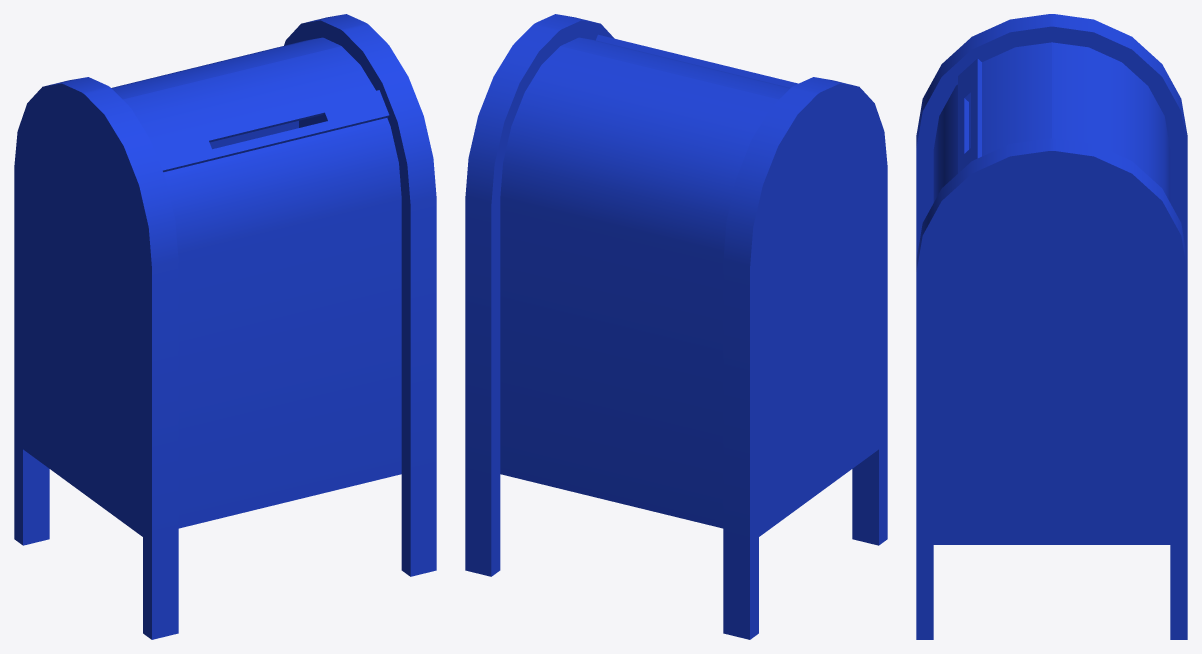
The model's file is Mailbox2.glb.
The picture shows the model from 3 angles, left to right: view 1: azimuth 30°, elevation 25°; view 2: azimuth 150°, elevation 25°; view 3: azimuth 270°, elevation 25°; orthographic projection.
Visible parts, largest first — view 1: Cube; view 2: Cube; view 3: Cube.
Boxes of the visible parts, x1=… form: Cube: x1=14, y1=14, x2=436, y2=639; Cube: x1=465, y1=14, x2=887, y2=639; Cube: x1=916, y1=14, x2=1187, y2=639.
Size of the model in its own units: 2 by 3.33 by 1.67.
